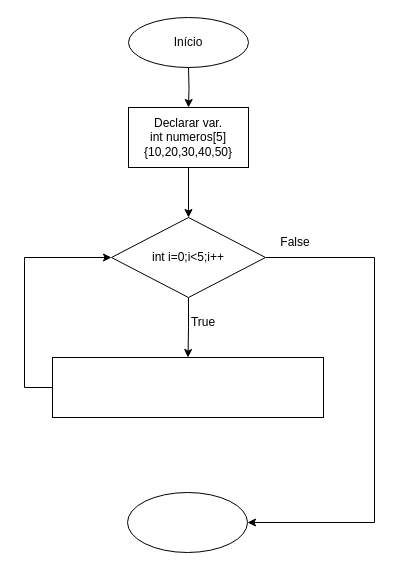
This 400x570 diagram has some shape labels left out. The shapes that lost their labels are listed below. From the top down, each one's centre as x and y in pixels, then its label:
(188,387): printf("Indice[%d] = Valor %d\n", i, numeros[i])
(187,522): Fim
